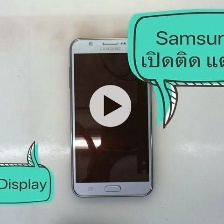phone: (65, 34, 157, 200)
